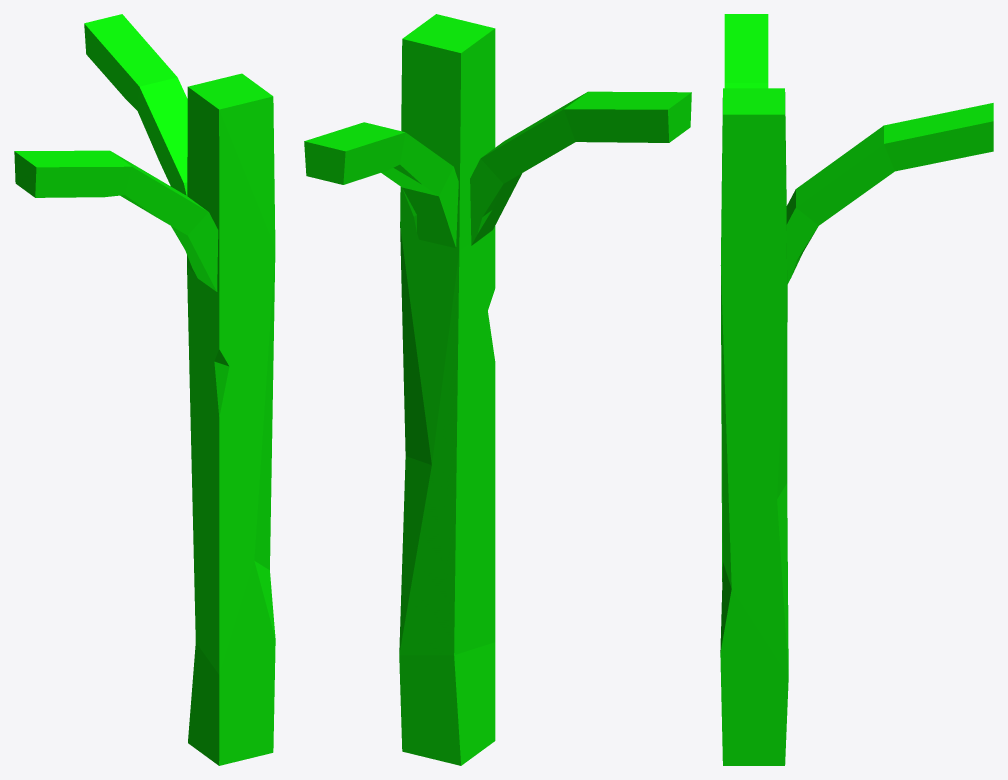
File: SM_House_Lower_Pillar_Fantasy.fbx
The picture shows the model from 3 angles, left to right: view 1: azimuth 30°, elevation 25°; view 2: azimuth 150°, elevation 25°; view 3: azimuth 270°, elevation 25°; orthographic projection. The views are drawn at different scales.
Parts seen in each view (by area): view 1: SM_House_Lower_Pillar_Fantasy; view 2: SM_House_Lower_Pillar_Fantasy; view 3: SM_House_Lower_Pillar_Fantasy.
Part boxes in pixels (bbox=[...]): SM_House_Lower_Pillar_Fantasy: bbox=[14, 14, 275, 765]; SM_House_Lower_Pillar_Fantasy: bbox=[304, 14, 691, 765]; SM_House_Lower_Pillar_Fantasy: bbox=[720, 14, 993, 765].
Bounding box in the file's own units: 1.13 × 3 × 1.14.
